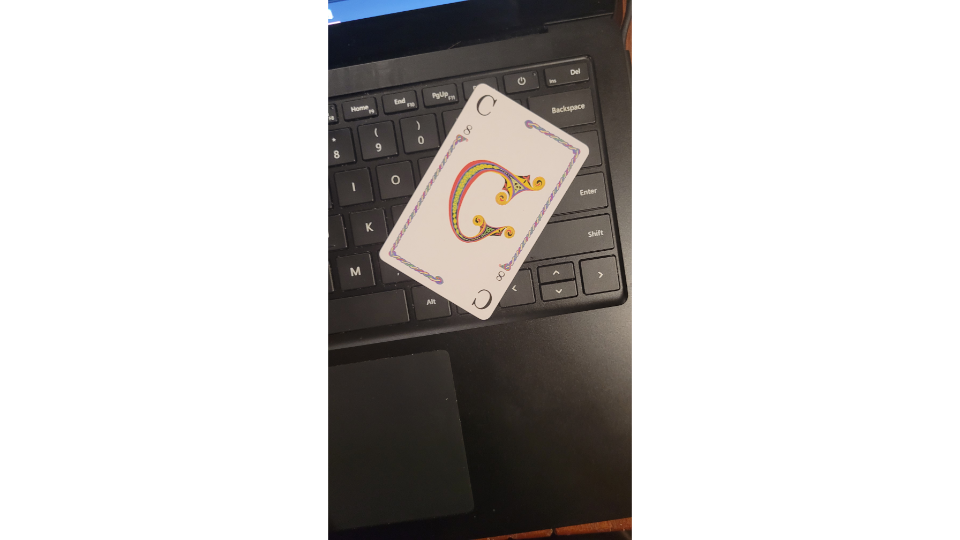C: (374, 79, 593, 327)
